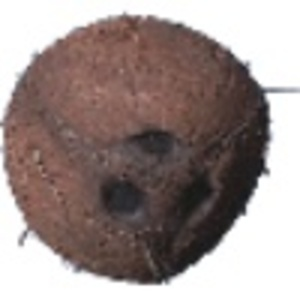coco: (2, 15, 300, 285)
